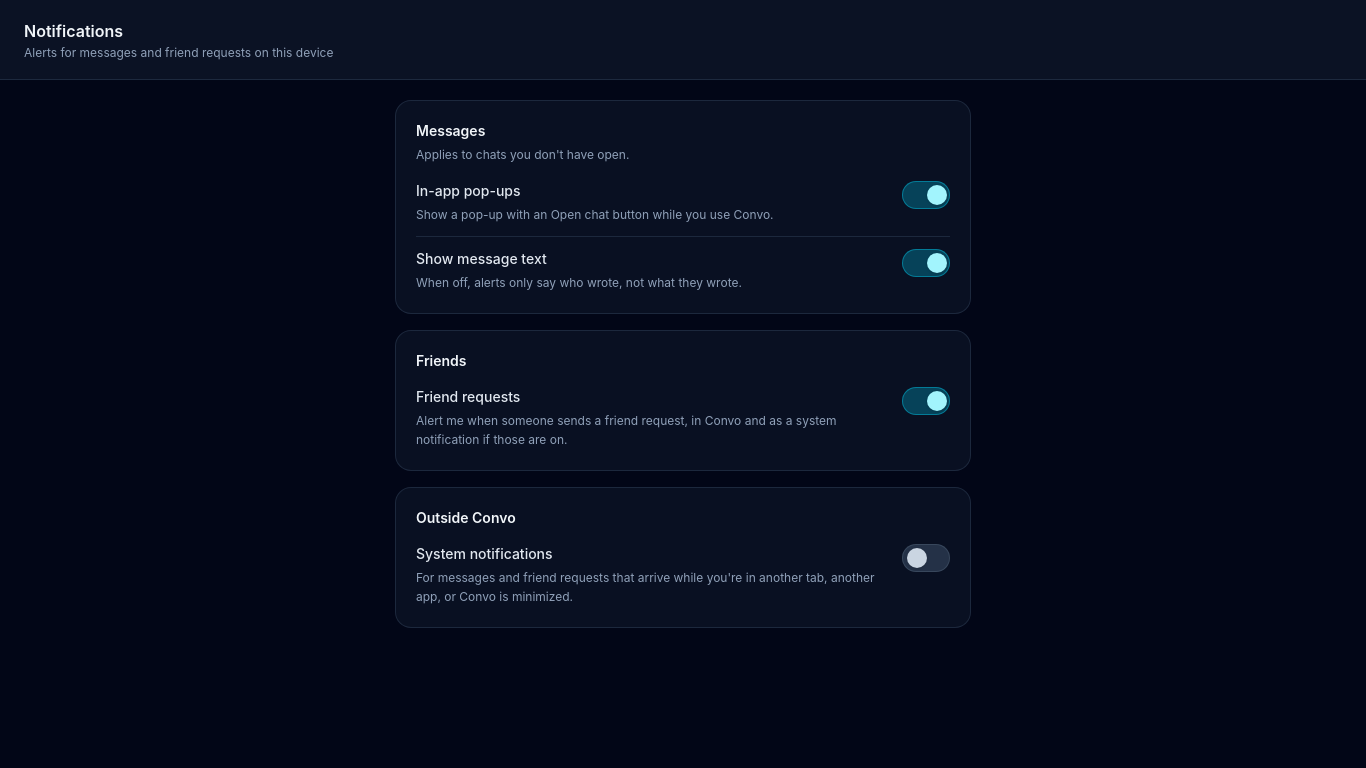
Test: device settings › stays off and explains how to unblock when permission is refused
This screenshot has width=1366, height=768.
Click the switch named "System notifications" in the row of "System notifications": [926, 558] box x1=902 y1=544 x2=950 y2=572
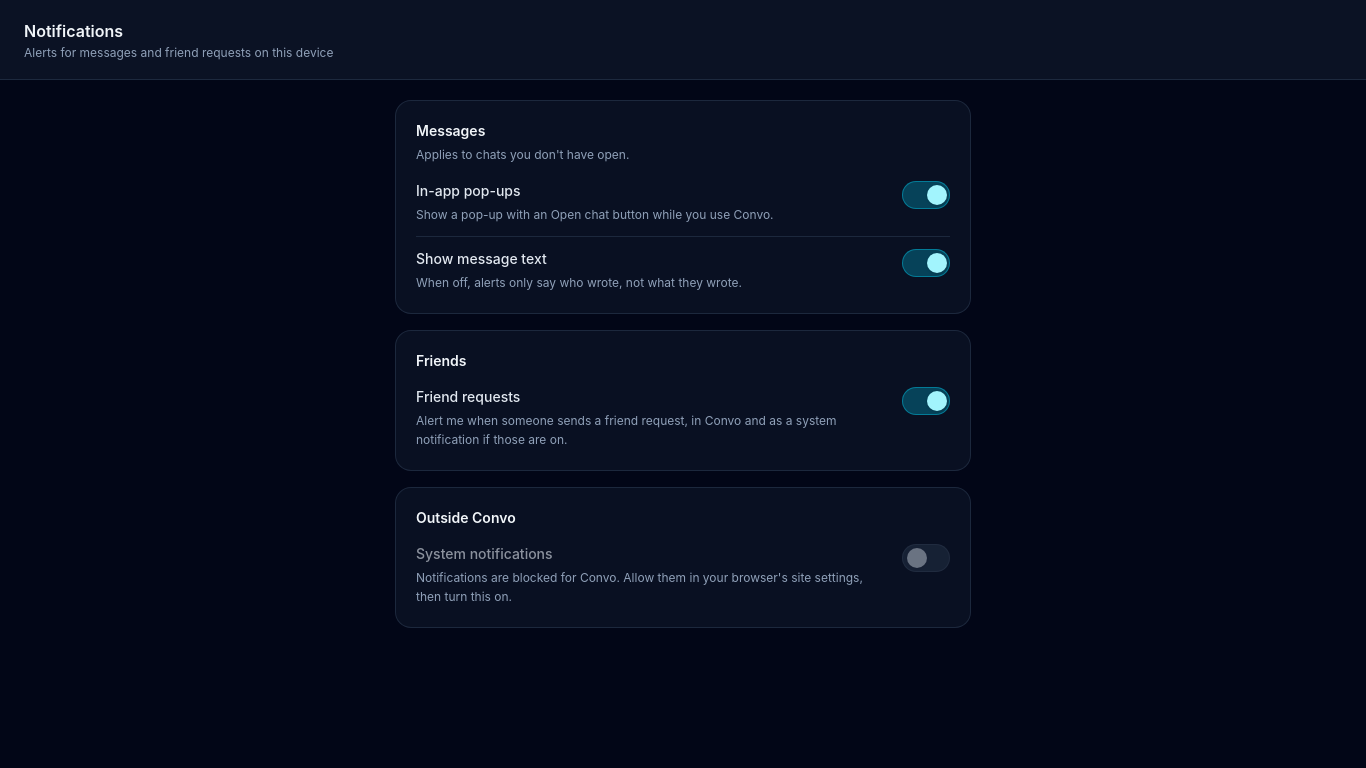
Expected: the switch named "System notifications" in the row of "System notifications" is disabled, x1=902 y1=544 x2=950 y2=572
